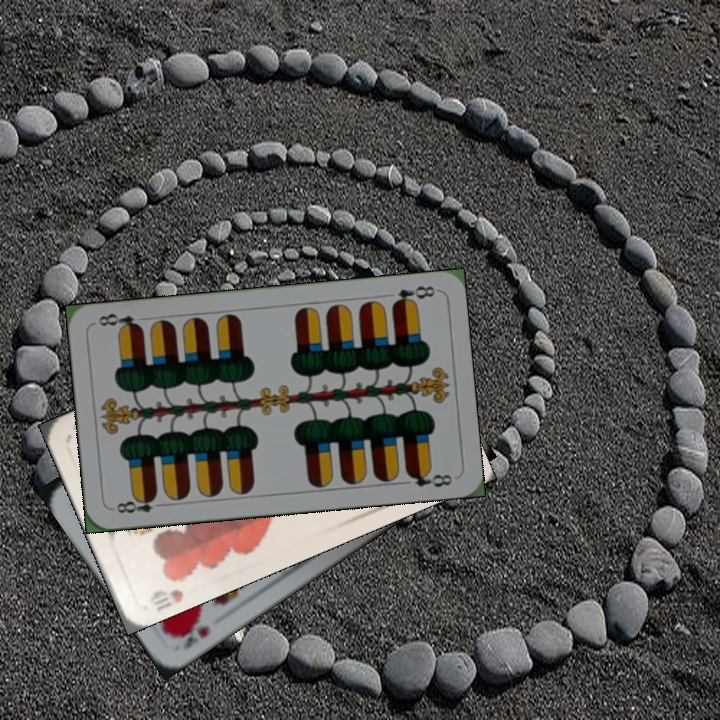E8: (387, 281, 438, 309), (112, 491, 168, 516)
H10: (145, 585, 186, 613)
HK: (169, 615, 212, 652)
